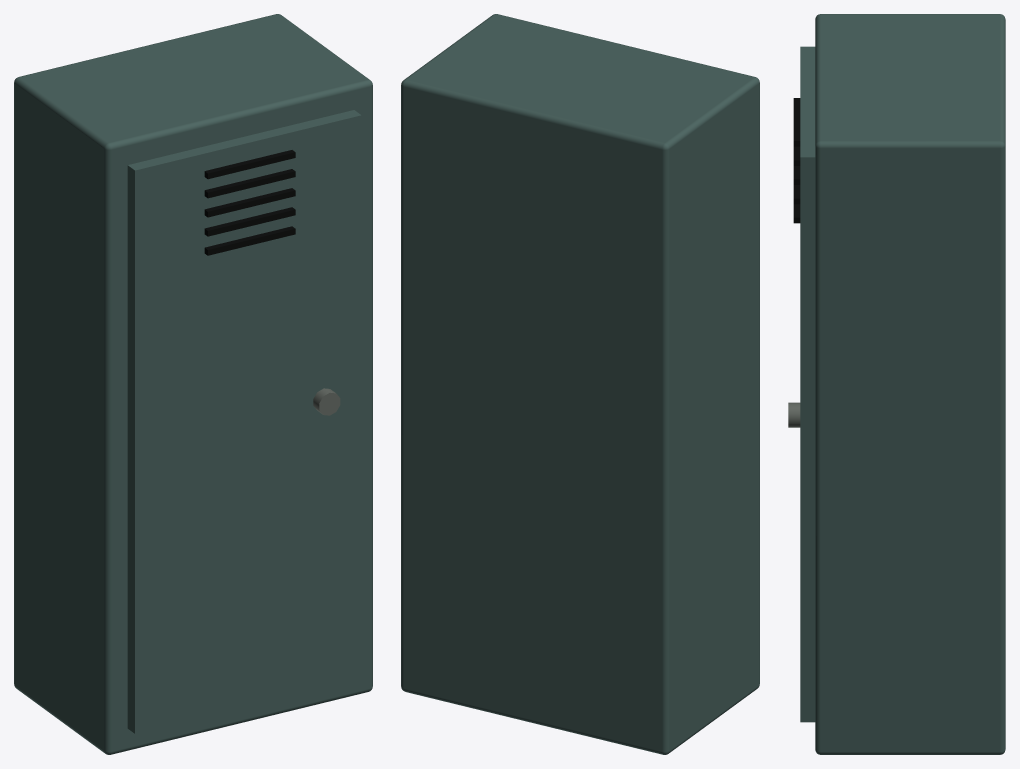
Rendered from ucb_player_locker_inventory_psx.glb.
3 renders of one model, left to right at view 1: azimuth 30°, elevation 25°; view 2: azimuth 150°, elevation 25°; view 3: azimuth 270°, elevation 25°, orthographic.
Parts seen in each view (by area): view 1: locker_door, locker_body, vent (×5); view 2: locker_body; view 3: locker_body, locker_door, vent.
Boxes of the visible parts, x1,y1,x2,y2 form: locker_door: (127,110,361,733); locker_body: (14,14,372,754); vent (×5): (204,150,295,255); locker_body: (401,14,759,754); locker_body: (815,14,1005,754); locker_door: (800,46,815,722); vent: (793,98,800,146).
Bounding box in the file's own units: 2.2 × 4.8 × 1.54.
